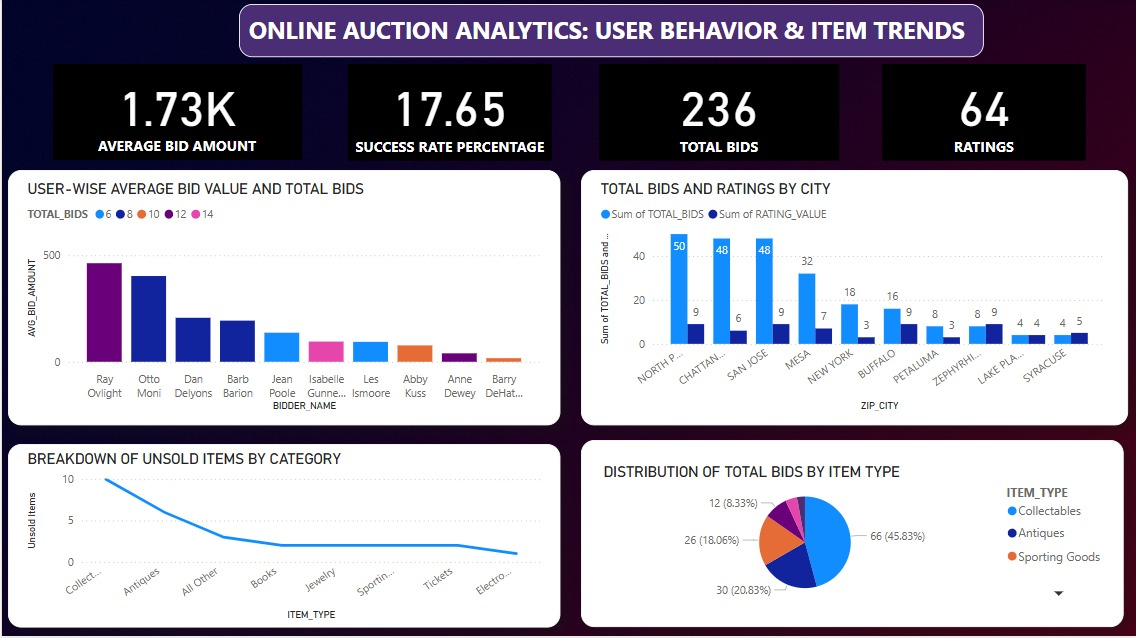

The page's visual inventory and layout, read from the dashboard file:
{"tool":"powerbi","page":{"name":"Page 1","canvas":[1280,720],"ordinal":0},"visuals":[{"type":"card","fields":{"Values":["Sum(Auction Success %.SUCCESS_RATE_PERCENTAGE)"]},"box":[374.8,70,229.7,109.1],"z":5000},{"type":"columnChart","title":"USER-WISE AVERAGE BID VALUE AND TOTAL BIDS","fields":{"Category":["Bidders.BIDDER_NAME"],"Y":["Sum(Bidders.AVG_BID_AMOUNT)"],"Series":["Bidders.TOTAL_BIDS"]},"box":[23.9,203.1,587,265.1],"z":6000},{"type":"pieChart","title":"DISTRIBUTION OF TOTAL BIDS BY ITEM TYPE","fields":{"Category":["Items.ITEM_TYPE"],"Y":["Sum(Items.TOTAL_BIDS)"]},"box":[670.3,505.4,579,196.8],"z":7000},{"type":"lineChart","title":"BREAKDOWN OF UNSOLD ITEMS BY CATEGORY","fields":{"Category":["ItemType.ITEM_TYPE"],"Y":["Sum(ItemType.UNSOLD_COUNT)"]},"box":[23.9,505.4,587,196.8],"z":8000},{"type":"clusteredColumnChart","title":"TOTAL BIDS AND RATINGS BY CITY","fields":{"Y":["Sum(Location.TOTAL_BIDS)","Sum(Location.RATING_VALUE)"],"Category":["Location.ZIP_CITY"]},"box":[669.5,203.1,579.9,265.1],"z":9000},{"type":"textbox","box":[269.6,8,840.6,54.1],"z":10000},{"type":"card","fields":{"Values":["Sum(Bidders.AVG_BID_AMOUNT)"]},"box":[80.7,70.5,227.9,108.2],"z":11000},{"type":"card","fields":{"Values":["Sum(Location.TOTAL_BIDS)"]},"box":[670.6,70,224.3,109.1],"z":12000},{"type":"card","fields":{"Values":["Sum(Location.RATING_VALUE)"]},"box":[961.2,70,229.7,109.1],"z":13000}]}

Visuals, with their boxes in screenshot pixels (x1, y1, x2, y2), scaled from the page's 1280x720 canvas onto the 1136x638 screenshot:
card - Sum(Auction Success %.SUCCESS_RATE_PERCENTAGE): (left=333, top=62, right=536, bottom=159)
"USER-WISE AVERAGE BID VALUE AND TOTAL BIDS" columnChart: (left=21, top=180, right=542, bottom=415)
"DISTRIBUTION OF TOTAL BIDS BY ITEM TYPE" pieChart: (left=595, top=448, right=1109, bottom=622)
"BREAKDOWN OF UNSOLD ITEMS BY CATEGORY" lineChart: (left=21, top=448, right=542, bottom=622)
"TOTAL BIDS AND RATINGS BY CITY" clusteredColumnChart: (left=594, top=180, right=1109, bottom=415)
textbox: (left=239, top=7, right=985, bottom=55)
card - Sum(Bidders.AVG_BID_AMOUNT): (left=72, top=62, right=274, bottom=158)
card - Sum(Location.TOTAL_BIDS): (left=595, top=62, right=794, bottom=159)
card - Sum(Location.RATING_VALUE): (left=853, top=62, right=1057, bottom=159)
